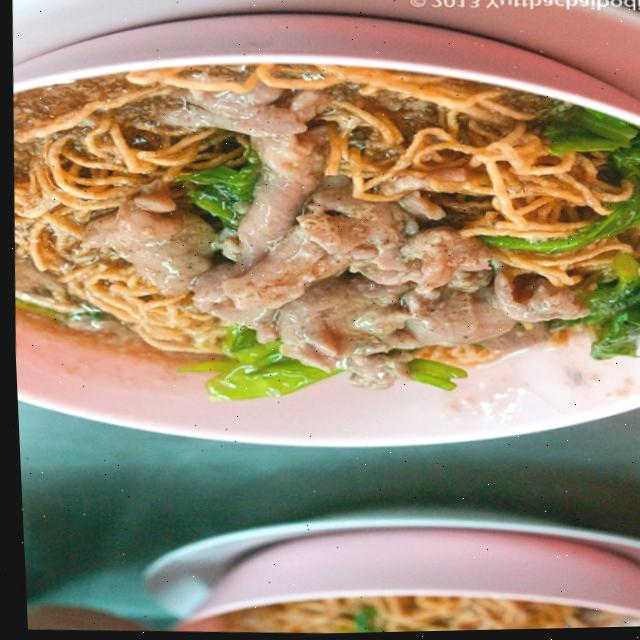面条主食: (2, 47, 640, 405)
